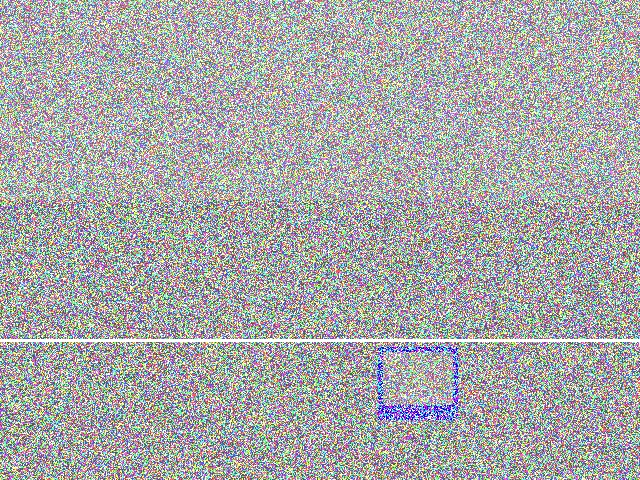bus: (283, 125, 469, 263), (158, 270, 281, 326)
car: (309, 300, 449, 395)
